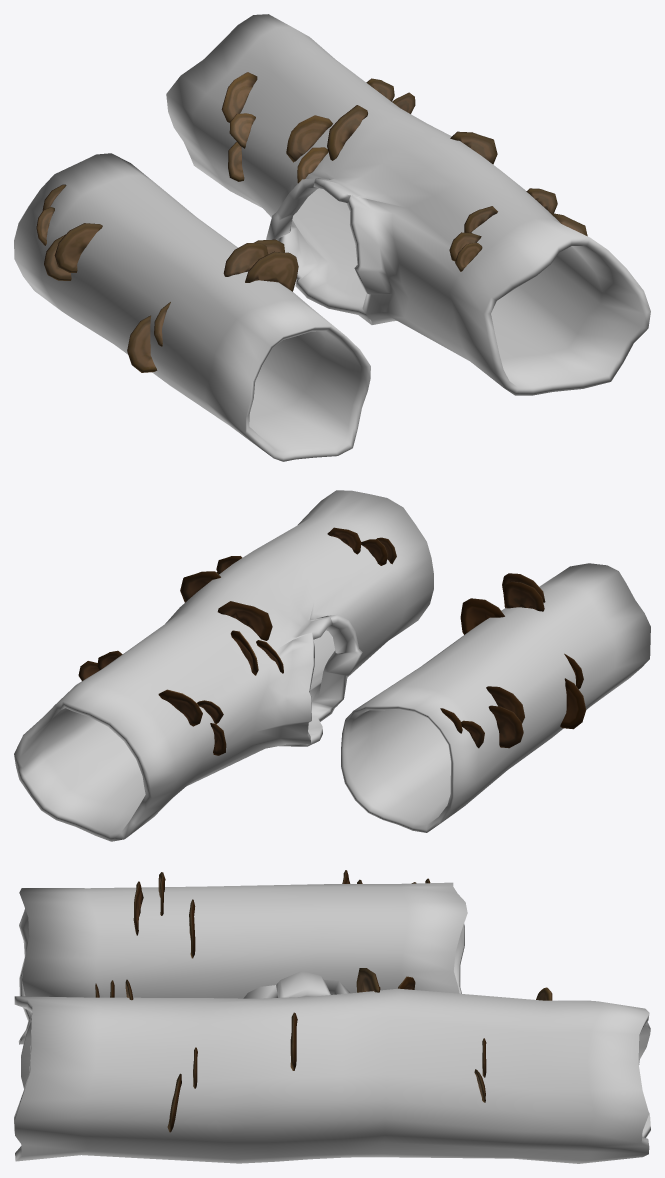
The model's file is Hollowed Tree Bridges A.fbx.
The picture shows the model from 3 angles, top to bottom: view 1: azimuth 30°, elevation 25°; view 2: azimuth 150°, elevation 25°; view 3: azimuth 270°, elevation 25°; orthographic projection. The views are drawn at different scales.
Visible parts, largest first — view 1: Cylinder.091, Cylinder.090; view 2: Cylinder.091, Cylinder.090; view 3: Cylinder.091, Cylinder.090.
Part boxes in pixels (bbox=[...]): Cylinder.091: bbox=[166, 14, 650, 395]; Cylinder.090: bbox=[14, 153, 370, 461]; Cylinder.091: bbox=[14, 490, 433, 841]; Cylinder.090: bbox=[341, 563, 650, 832]; Cylinder.091: bbox=[14, 968, 650, 1163]; Cylinder.090: bbox=[18, 870, 467, 1044].
Size of the model in its own units: 1535 by 555 by 1940.
